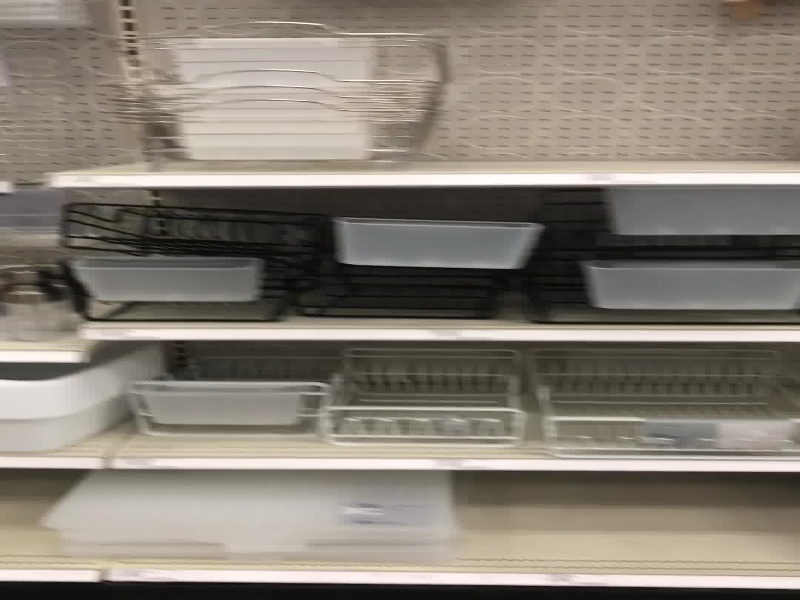void: (453, 1, 800, 170), (463, 469, 800, 576)
